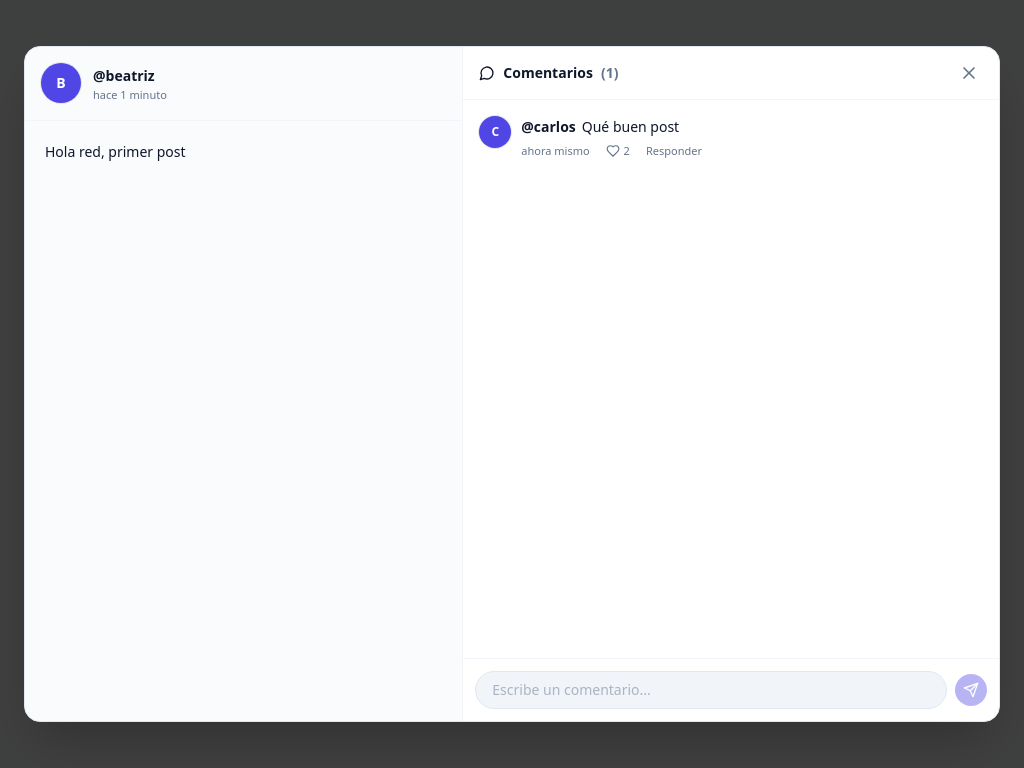
Test: ComentariosModal › revierte el like y avisa cuando la petición falla
Expected: the text "Qué buen post" is shown, [582,117,679,136]
Click the button named "Me gusta" at (618, 151), box [606,143,630,159]
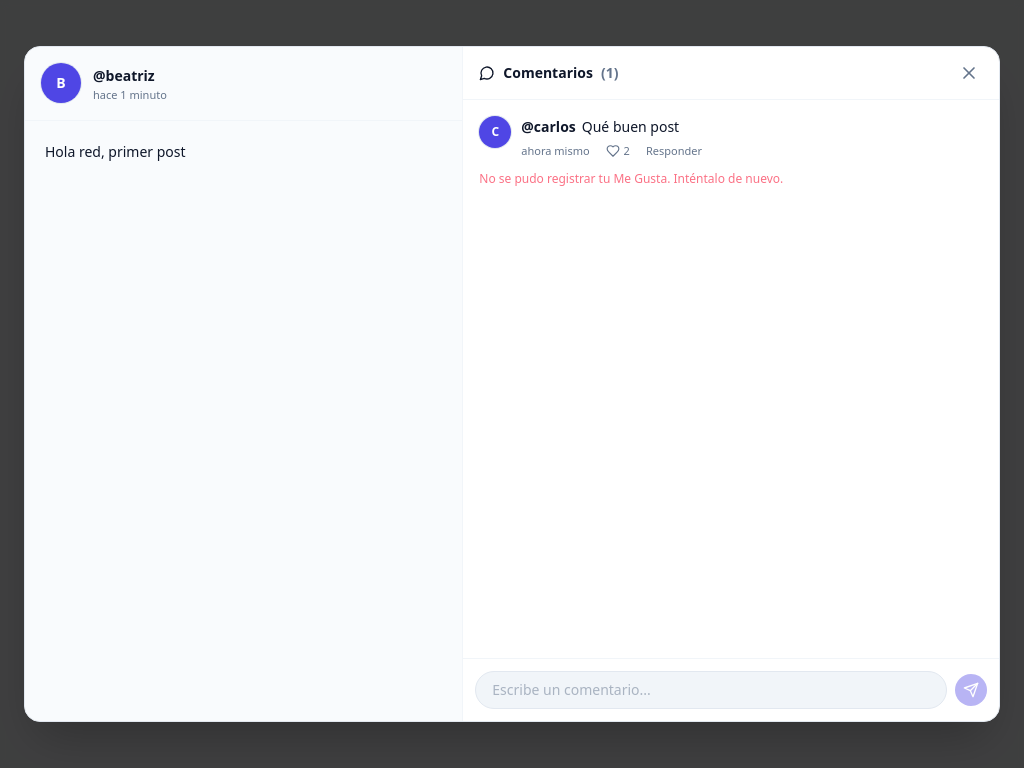
Expected: the text "2" is shown, [624,143,630,159]
Expected: the text "No se pudo registrar tu Me Gusta. Inténtalo de nuevo." is shown, [479,170,783,187]
